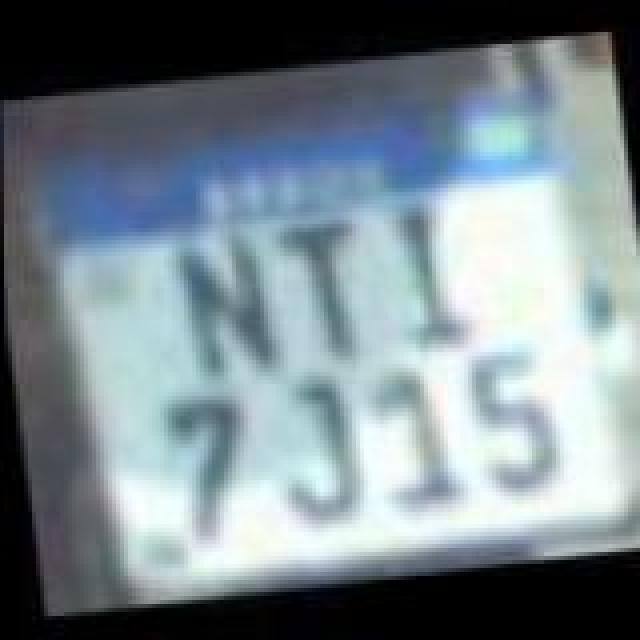1: (346, 338, 454, 510)
5: (444, 324, 560, 484)
7: (150, 378, 254, 546)
I: (382, 188, 478, 352)
J: (250, 364, 362, 536)
N: (164, 218, 276, 394)
T: (268, 206, 376, 374)
